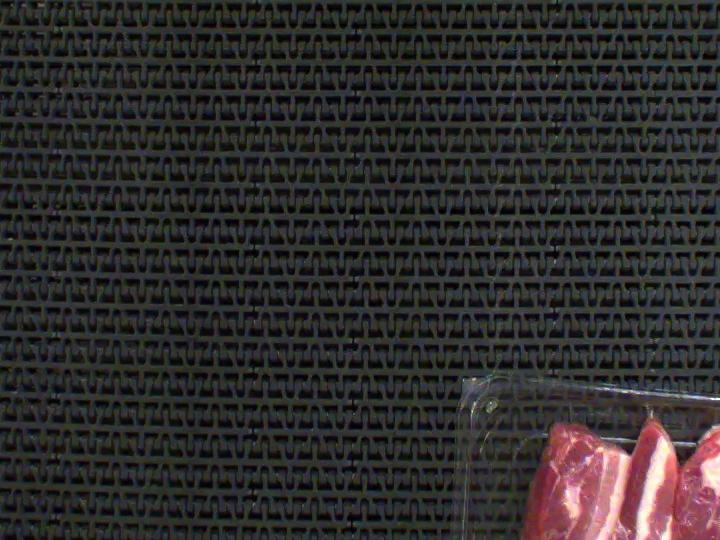packaging-error: (639, 399, 662, 420), (711, 412, 720, 432)
